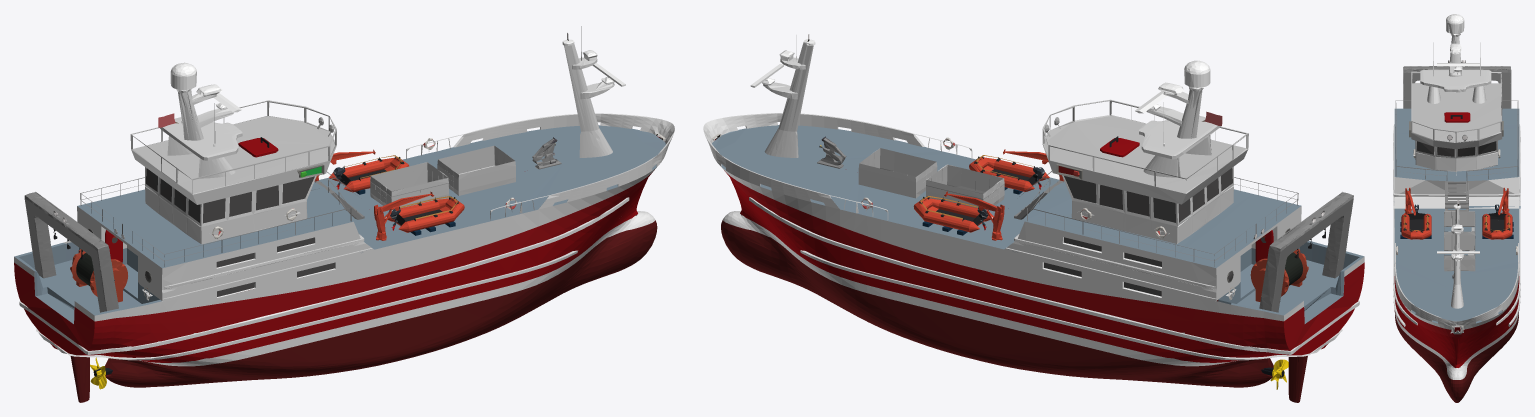
File: fishing_vessel.dae
3 views of the same model, side by side, from view 1: azimuth 30°, elevation 25°; view 2: azimuth 150°, elevation 25°; view 3: azimuth 270°, elevation 25° (orthographic). The views are drawn at different scales.
Parts seen in each view (by area): view 1: n35, n59, n51, n31, n47, n48, n32, n38, n36, n63, n11, n15 (+4 smaller); view 2: n35, n59, n51, n31, n47, n48, n32, n38, n36, n63, n11, n15 (+5 smaller); view 3: n59, n35, n32, n31, n38, n51, n48, n36, n15, n11, n47, n63 (+3 smaller).
Part boxes in pixels (box(x1,y1,x2,y2)): n35: box(14, 44, 674, 321); n59: box(14, 125, 665, 323); n51: box(105, 220, 657, 387); n31: box(24, 138, 647, 362); n47: box(14, 136, 659, 350); n48: box(19, 197, 655, 366); n32: box(130, 100, 336, 204); n38: box(24, 138, 561, 312); n36: box(370, 145, 515, 210); n63: box(146, 168, 314, 223); n11: box(329, 157, 464, 232); n15: box(170, 26, 625, 297); n35: box(703, 42, 1364, 321); n59: box(712, 125, 1364, 323); n51: box(721, 220, 1273, 387); n31: box(730, 138, 1354, 362); n47: box(715, 139, 1364, 350); n48: box(723, 197, 1359, 366); n32: box(1042, 99, 1248, 204); n38: box(817, 138, 1353, 312); n36: box(858, 148, 1004, 207); n63: box(1064, 168, 1232, 222); n11: box(913, 157, 1049, 232); n15: box(750, 35, 1210, 297); n59: box(1394, 108, 1520, 325); n35: box(1393, 35, 1520, 329); n32: box(1411, 71, 1502, 149); n31: box(1395, 112, 1518, 367); n38: box(1395, 66, 1518, 280); n51: box(1394, 310, 1519, 402); n48: box(1393, 208, 1520, 379); n36: box(1444, 211, 1475, 271); n15: box(1416, 14, 1498, 260); n11: box(1401, 213, 1512, 239); n47: box(1394, 276, 1519, 337); n63: box(1417, 141, 1496, 156).
Size of the model in its own units: 33.58 by 8.16 by 16.34.
